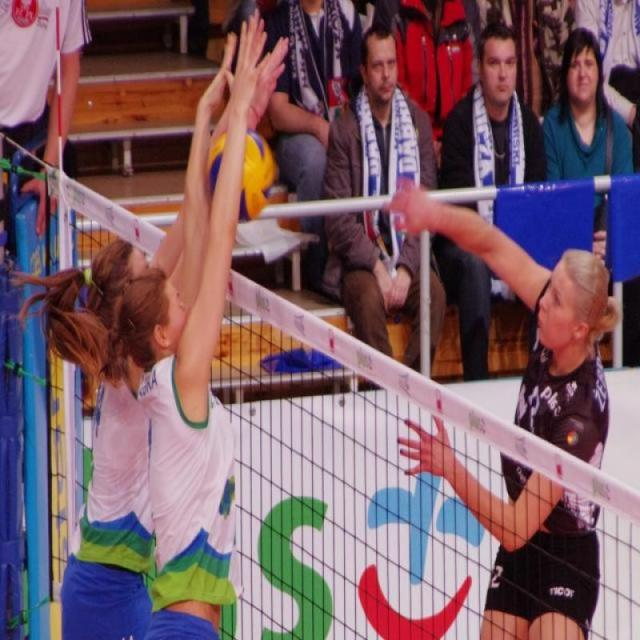volleyball: (210, 119, 274, 223)
